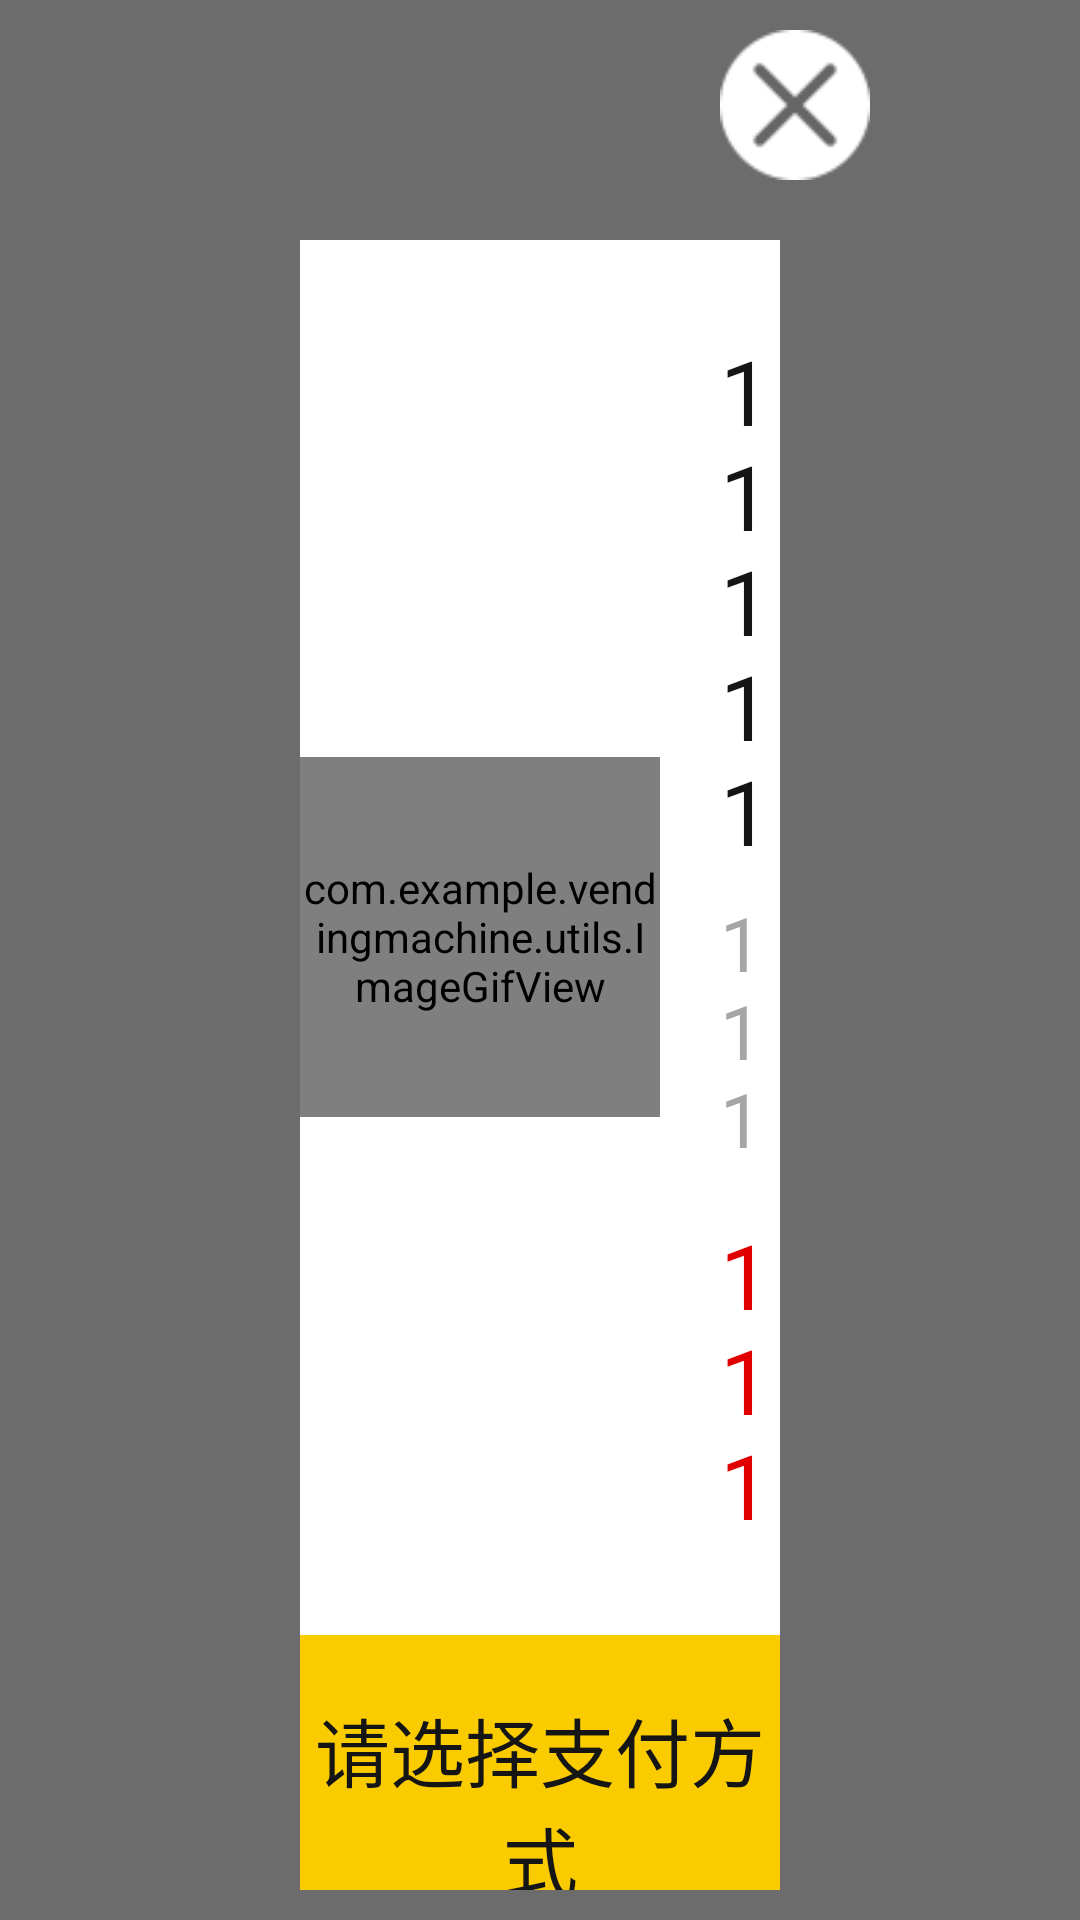

Screen size 1080*1920. Icon name, then its center in pixels as point (x, y):
close: point (795, 105)
